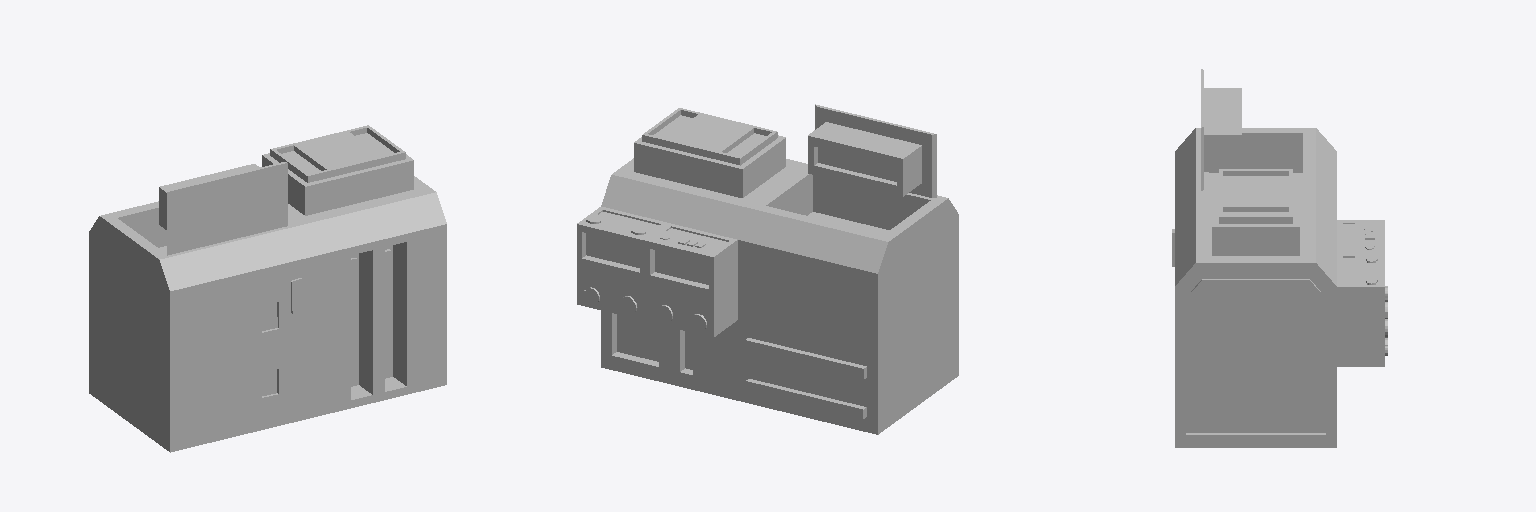
Rendered from Control Panel.obj.
3 renders of one model, left to right at view 1: azimuth 30°, elevation 25°; view 2: azimuth 150°, elevation 25°; view 3: azimuth 270°, elevation 25°, orthographic.
Visible parts, largest first — view 1: Control_Panel_Cube; view 2: Control_Panel_Cube; view 3: Control_Panel_Cube.
Boxes of the visible parts, x1=… form: Control_Panel_Cube: x1=89, y1=125, x2=446, y2=452; Control_Panel_Cube: x1=577, y1=104, x2=958, y2=434; Control_Panel_Cube: x1=1172, y1=69, x2=1387, y2=447.
Bounding box in the file's own units: 1.73 × 1.48 × 1.17.